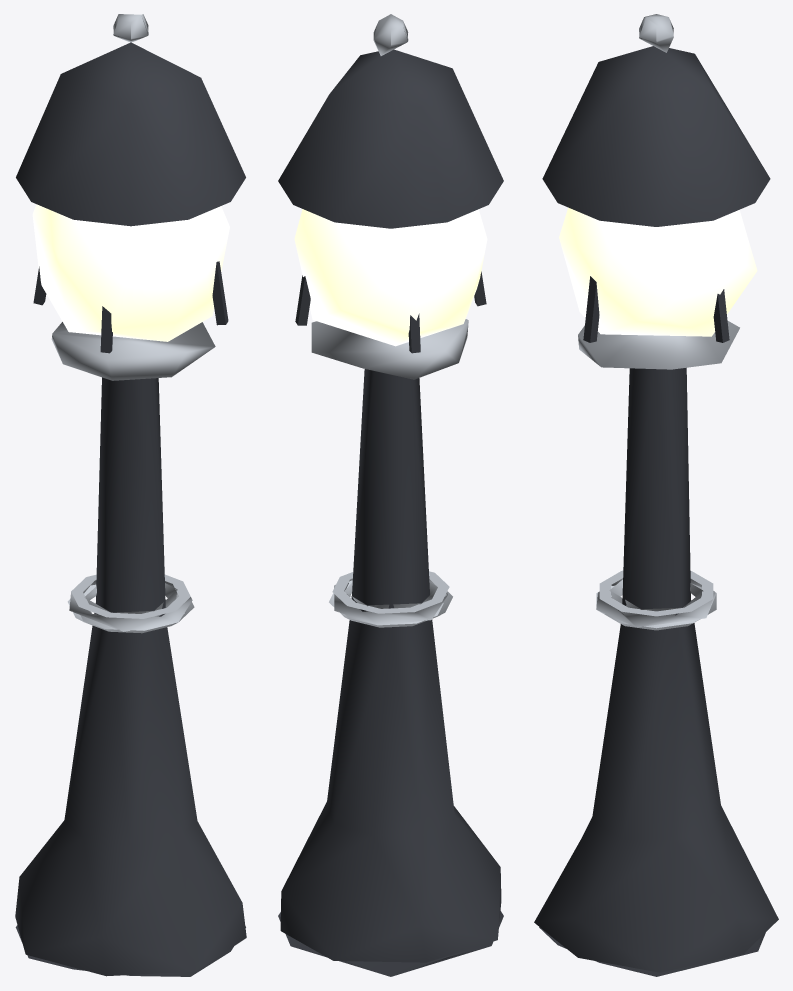
File: lod_garden_lamp_low.glb
3 renders of one model, left to right at view 1: azimuth 30°, elevation 25°; view 2: azimuth 150°, elevation 25°; view 3: azimuth 270°, elevation 25°, orthographic. The views are drawn at different scales.
Visible parts, largest first — view 1: garden_lamp_low; view 2: garden_lamp_low; view 3: garden_lamp_low.
Part boxes in pixels (x1=…): garden_lamp_low: x1=15, y1=14, x2=246, y2=976; garden_lamp_low: x1=278, y1=14, x2=503, y2=976; garden_lamp_low: x1=534, y1=14, x2=778, y2=976.
Size of the model in its own units: 0.365 by 1.51 by 0.365.
